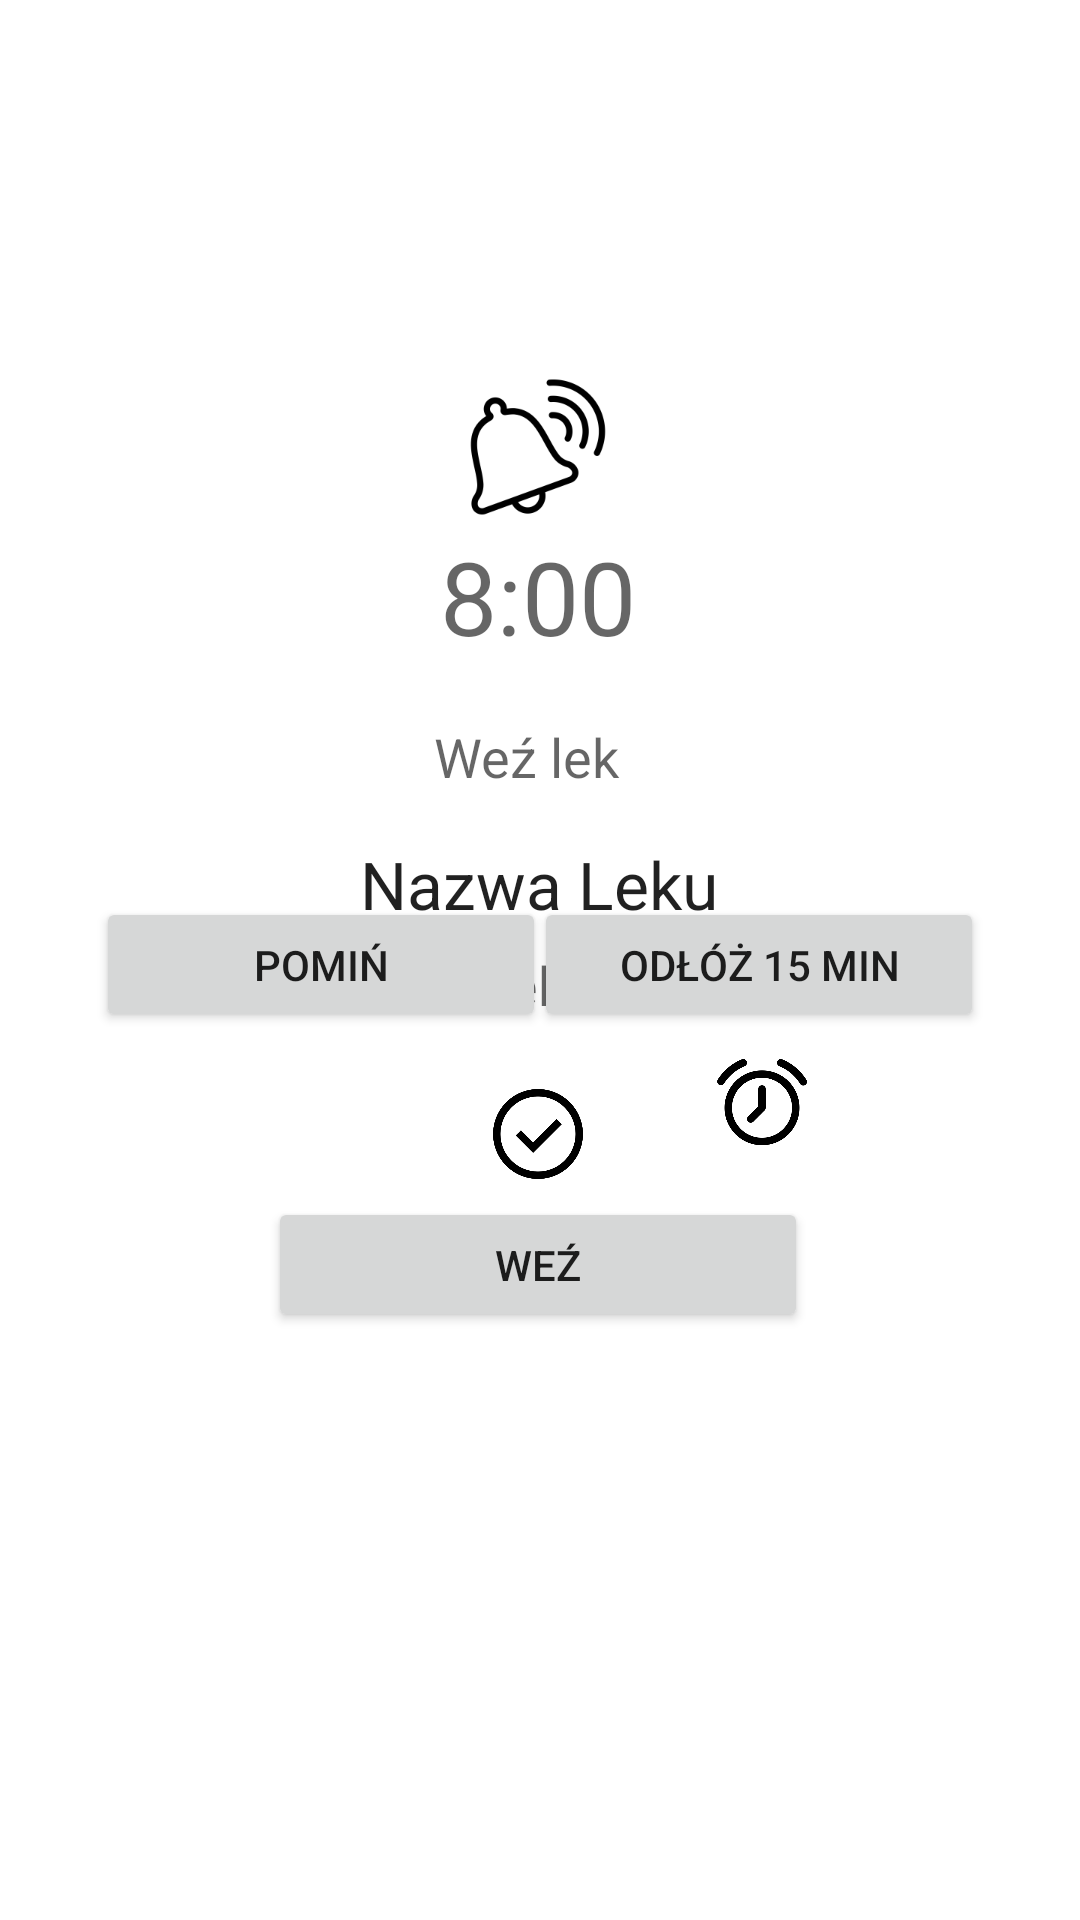

Named icons in this screenshot (1080w x 1920h) and their centers, (x=x, y=y):
bell: (x=538, y=447)
check: (x=538, y=1134)
clock: (x=762, y=1102)
